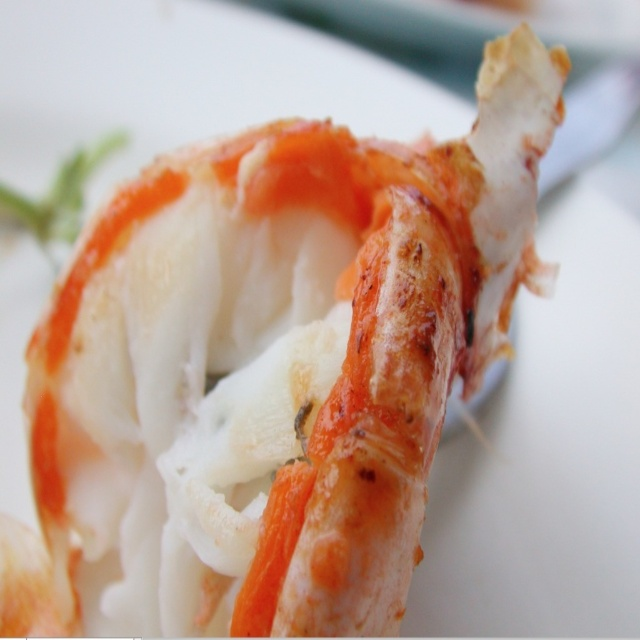Shrimp: (0, 20, 572, 637)
